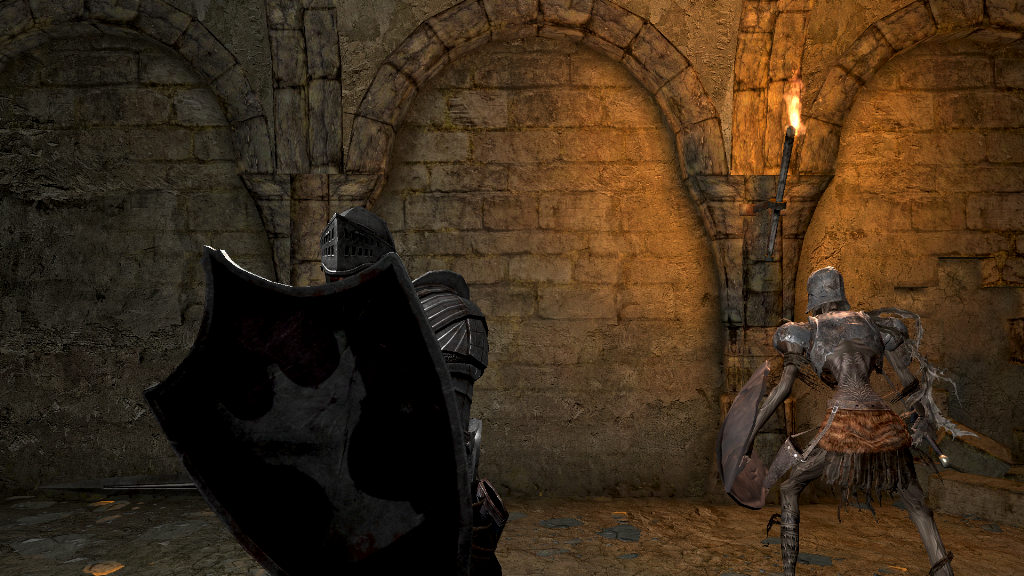player: (143, 205, 512, 576)
undeadSoldier: (716, 265, 961, 576)
